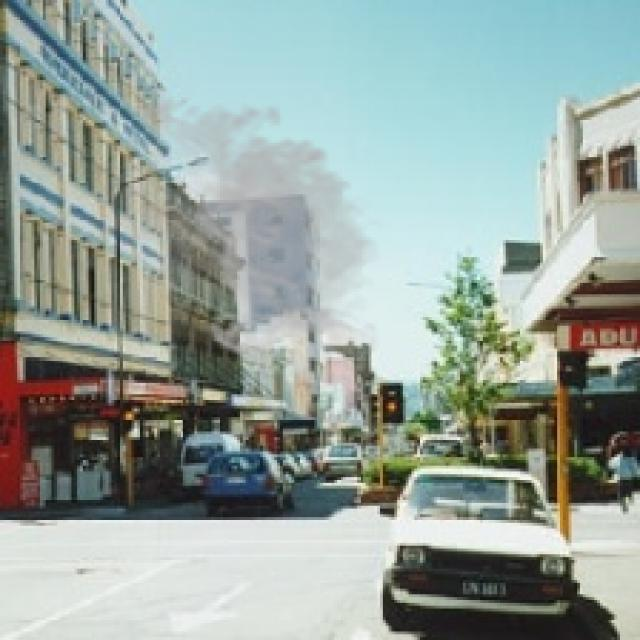smoke: (108, 89, 383, 360)
